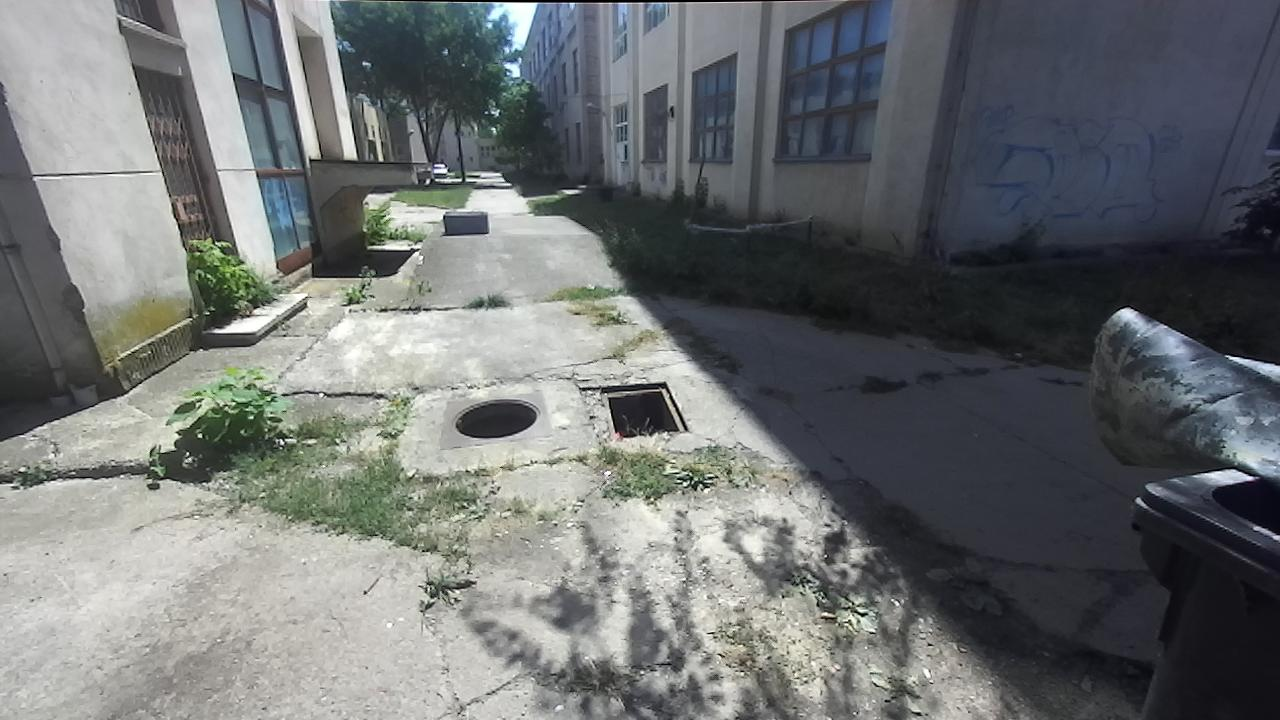drain: (578, 387, 691, 440), (451, 396, 544, 438)
